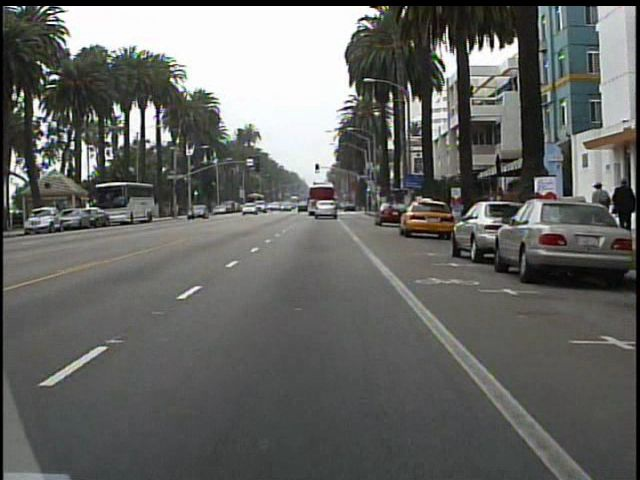person: (609, 173, 635, 240), (586, 177, 611, 241)
